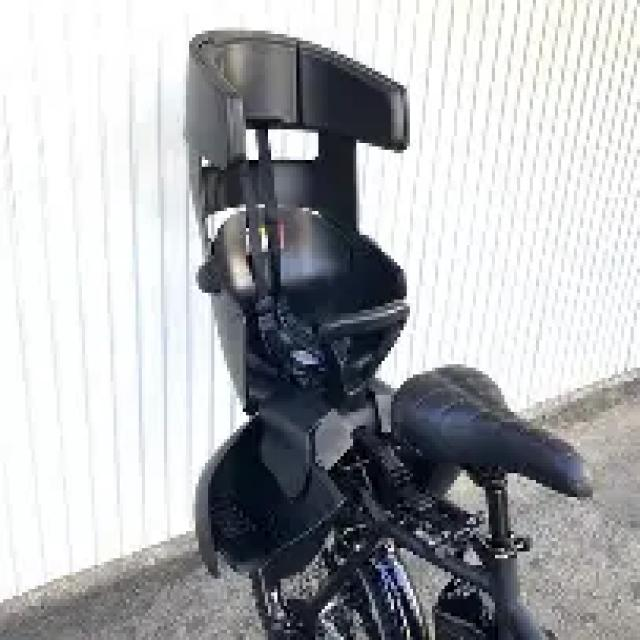childseat: (172, 19, 455, 561)
